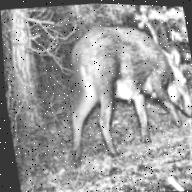boar: (32, 1, 192, 173)
